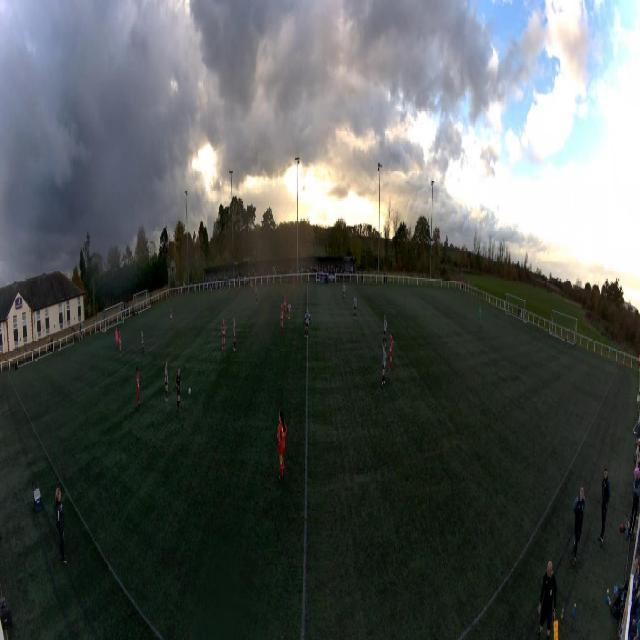ball: (188, 387, 191, 395)
player: (276, 416, 287, 482), (176, 364, 182, 415), (381, 341, 386, 387), (389, 331, 394, 370), (221, 319, 227, 351), (305, 308, 311, 337), (136, 367, 140, 407), (164, 362, 168, 399), (383, 315, 387, 346), (280, 304, 284, 335), (353, 294, 357, 320), (233, 317, 236, 351), (287, 303, 292, 321), (283, 295, 287, 316), (478, 306, 482, 327), (119, 331, 122, 359), (141, 329, 144, 355), (342, 284, 346, 301), (170, 306, 173, 328), (116, 328, 119, 349), (255, 287, 257, 304), (293, 278, 295, 290), (251, 282, 253, 293)
